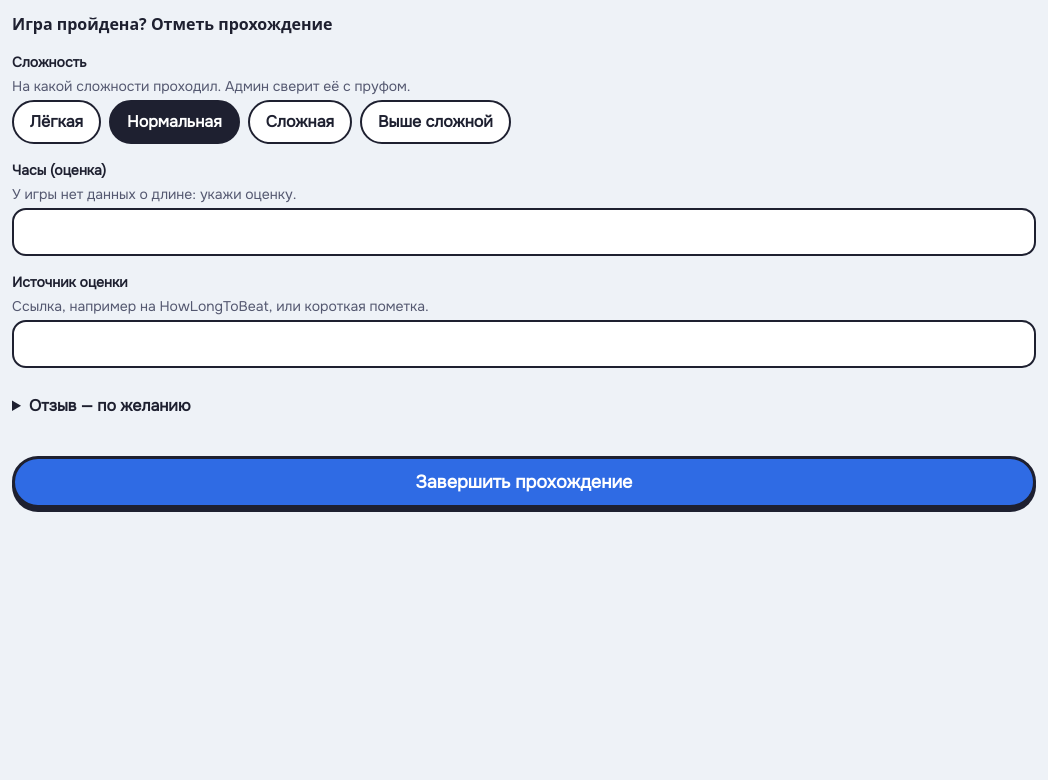
CompleteForm › refuses the estimate "-2"
Type "-2" into the field with test id "complete-hours" at (524, 232), box left=12, top=208, right=1036, bottom=256
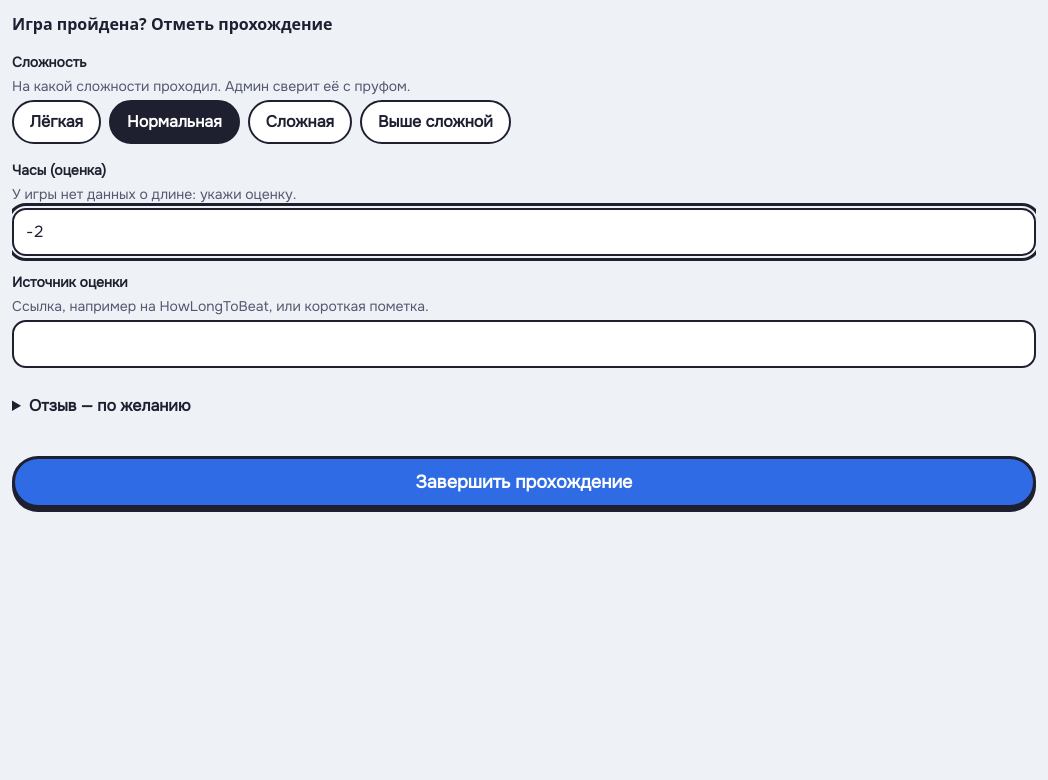
Type "HLTB" into the field with test id "complete-hours-source" at (524, 344), box left=12, top=320, right=1036, bottom=368
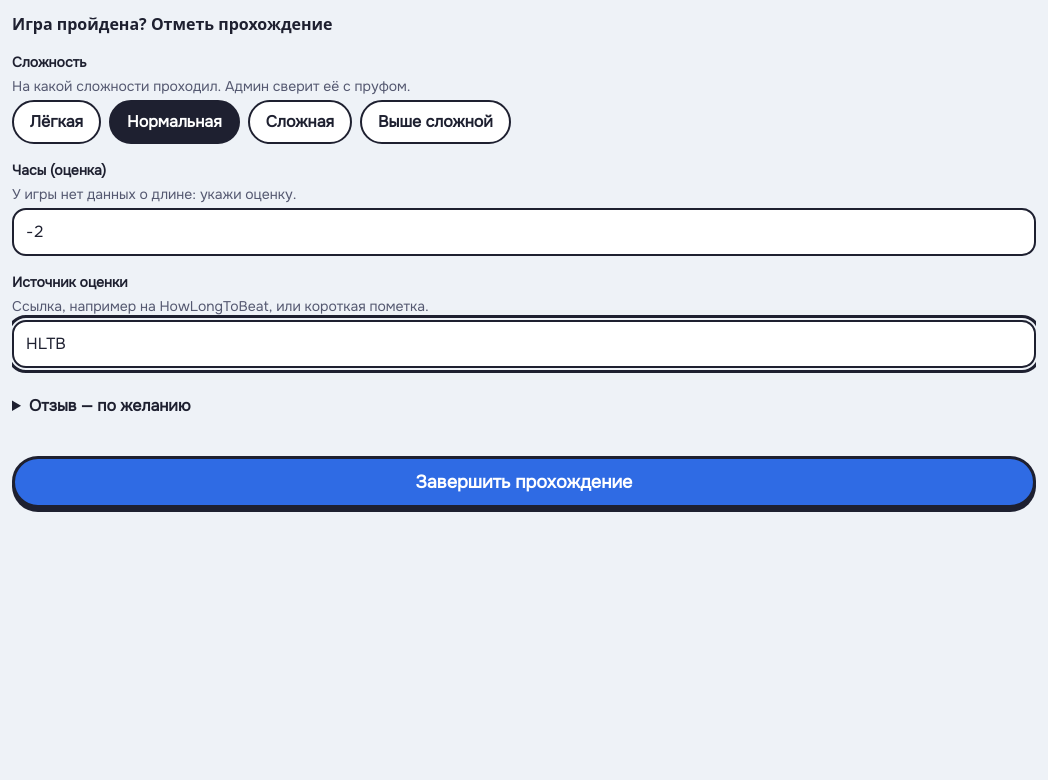
Click the button with test id "complete-submit" at (524, 482), box left=12, top=456, right=1036, bottom=508
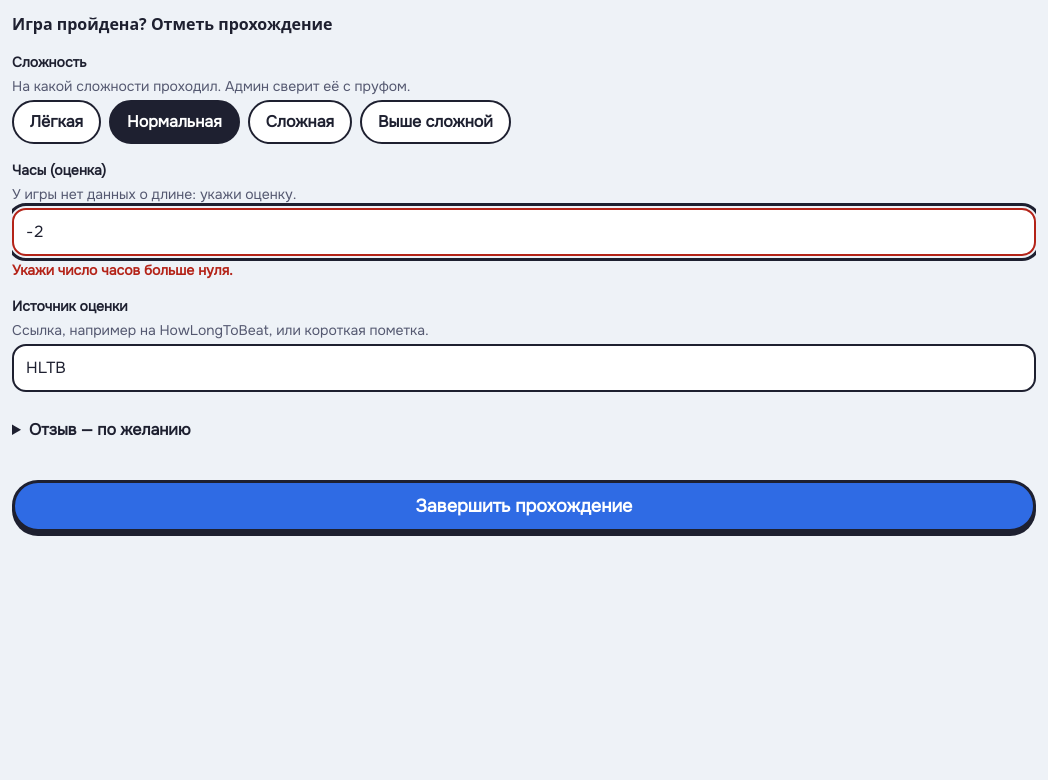
Now the message reads "Укажи число часов больше нуля.", box left=12, top=261, right=233, bottom=279
